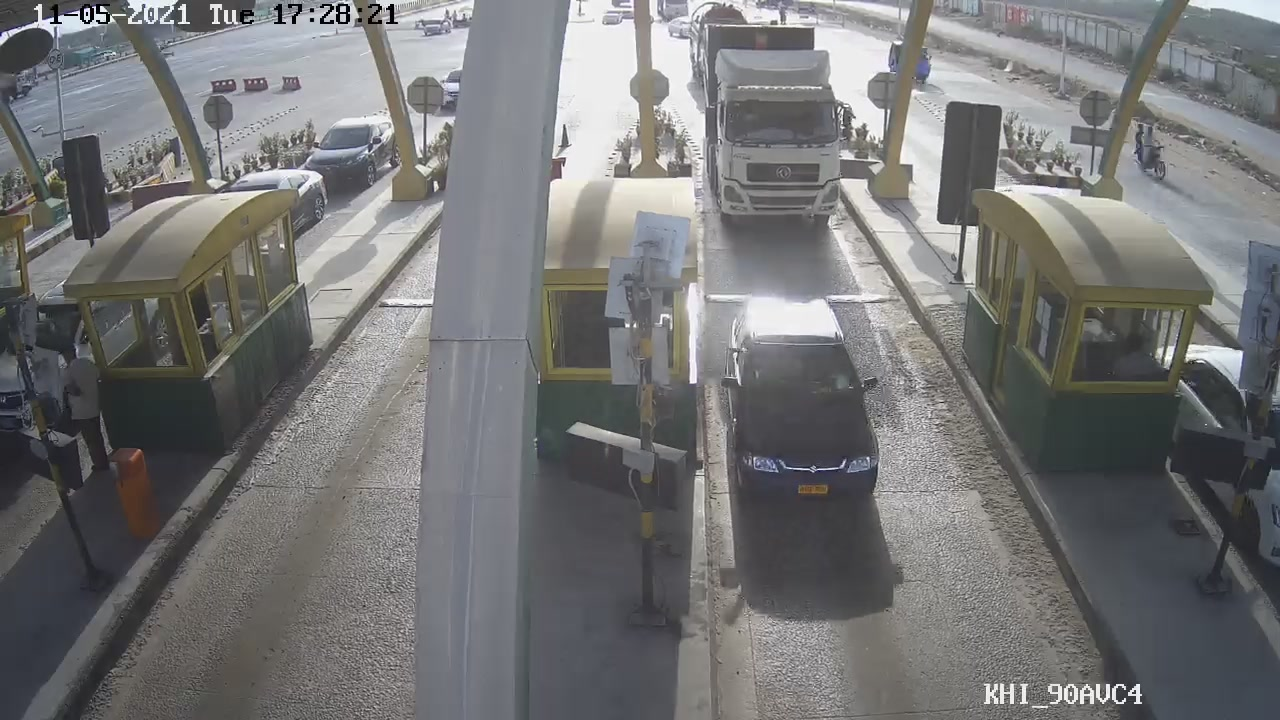F1: (723, 290, 888, 500)
F6: (697, 21, 846, 235)
